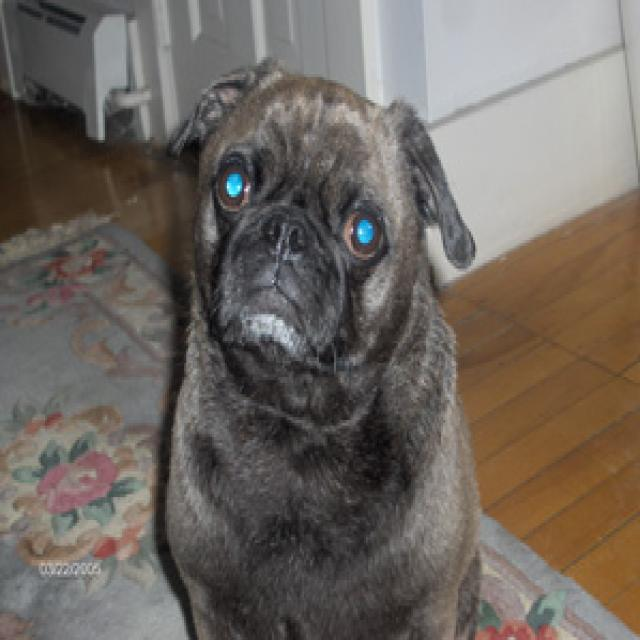dog-pug: (161, 46, 492, 634)
